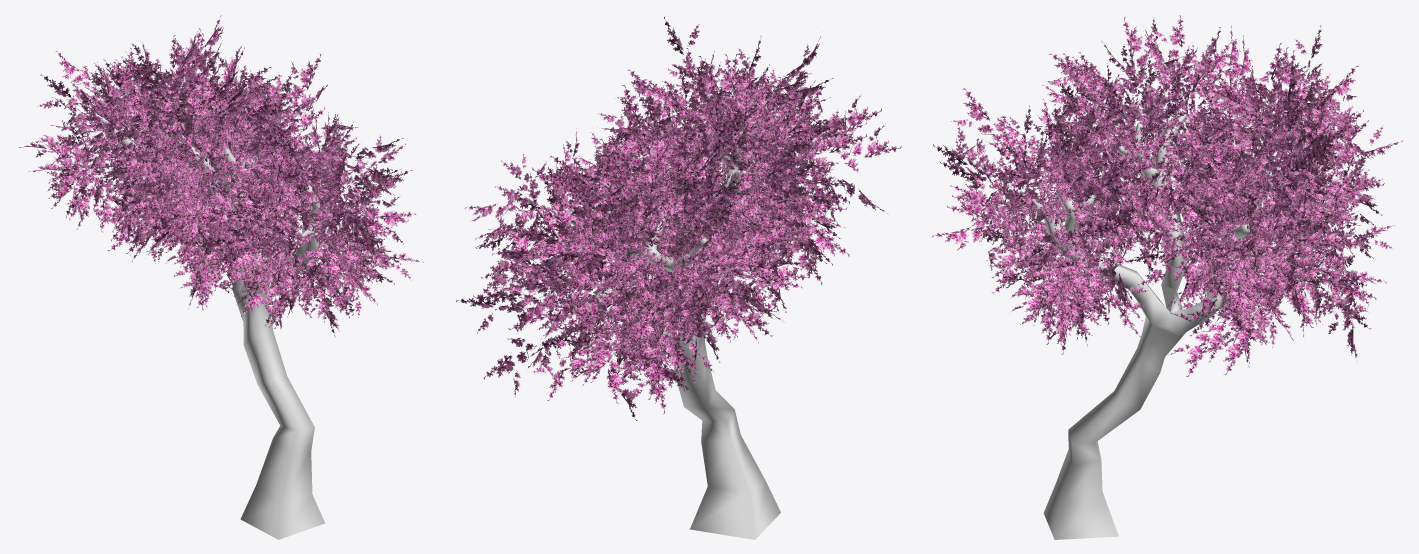
The model's file is Tree.fbx.
3 views of the same model, side by side, from view 1: azimuth 30°, elevation 25°; view 2: azimuth 150°, elevation 25°; view 3: azimuth 270°, elevation 25° (orthographic). The views are drawn at different scales.
Parts seen in each view (by area): view 1: Palace_GreatTreeLeaf; view 2: Palace_GreatTreeLeaf; view 3: Palace_GreatTreeLeaf.
Boxes of the visible parts, bbox=[...] form: Palace_GreatTreeLeaf: bbox=[19, 15, 423, 539]; Palace_GreatTreeLeaf: bbox=[456, 16, 901, 539]; Palace_GreatTreeLeaf: bbox=[932, 15, 1402, 539].
Bounding box in the file's own units: 1057 × 1454 × 1308.
